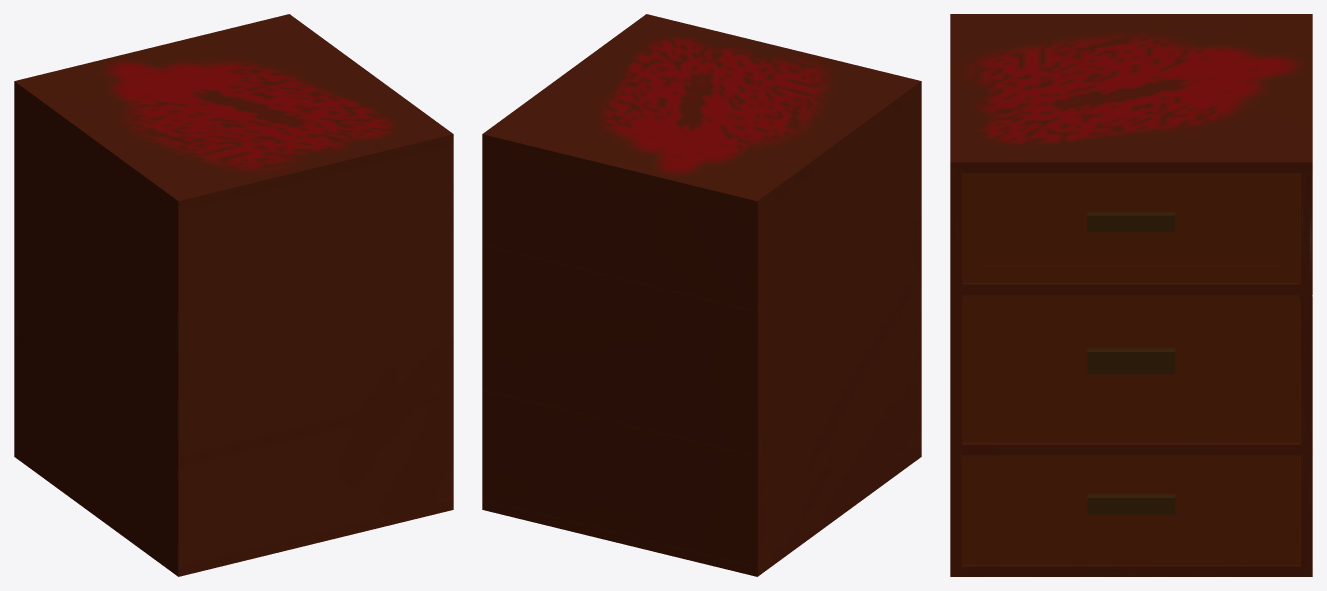
The model's file is cajonera.fbx.
The picture shows the model from 3 angles, left to right: view 1: azimuth 30°, elevation 25°; view 2: azimuth 150°, elevation 25°; view 3: azimuth 270°, elevation 25°; orthographic projection. The views are drawn at different scales.
Parts seen in each view (by area): view 1: Cubo.018; view 2: Cubo.018; view 3: Cubo.018, Cubo.026, Cubo.023, Cubo.028.
Boxes of the visible parts, <box> form: Cubo.018: <box>14,14,453,576</box>; Cubo.018: <box>482,14,921,576</box>; Cubo.018: <box>950,14,1312,576</box>; Cubo.026: <box>962,295,1299,442</box>; Cubo.023: <box>962,173,1299,282</box>; Cubo.028: <box>962,455,1299,564</box>.
Size of the model in its own units: 29.93 by 38.43 by 30.44.
